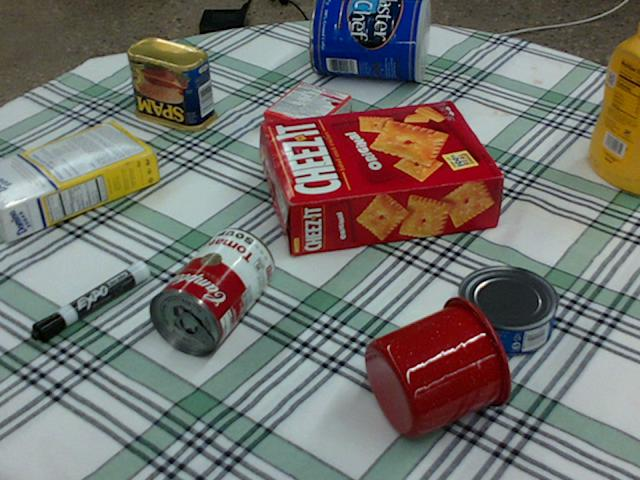cracker_box: (263, 100, 502, 254)
gelatin_box: (262, 79, 350, 146)
large_marker: (29, 260, 148, 343)
master_chef_can: (309, 0, 428, 80)
mug: (364, 293, 513, 439)
mustard_bottle: (586, 20, 639, 193)
potted_meat_can: (127, 38, 216, 130)
sugar_box: (0, 122, 157, 240)
tomato_soup_can: (148, 225, 274, 354)
tuna_fish_can: (457, 264, 560, 355)
